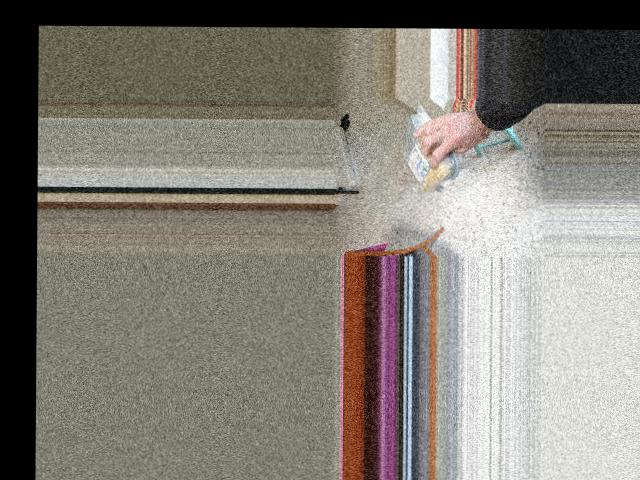cheese: (406, 111, 447, 200)
